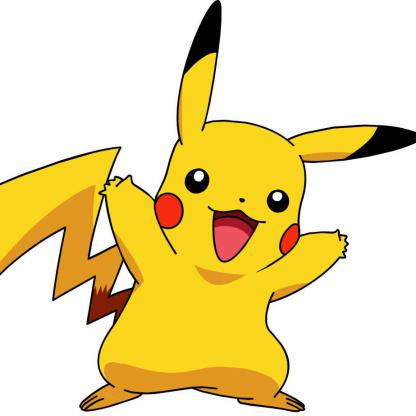Pikachu: (22, 5, 416, 416)
